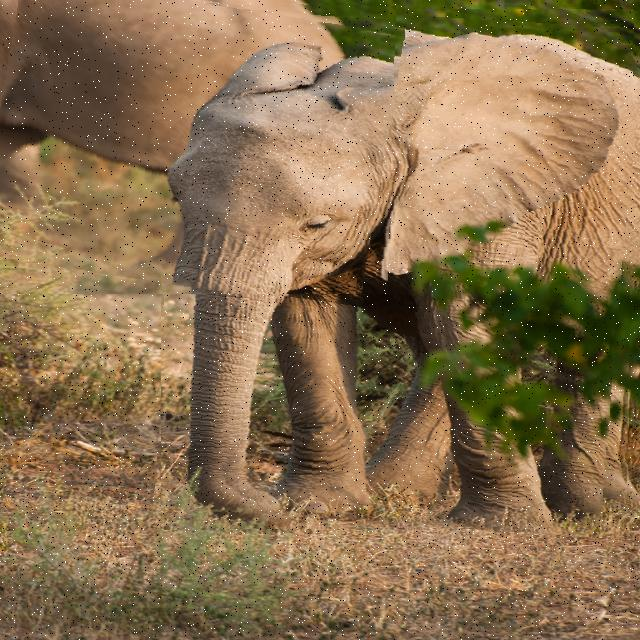elephant: (161, 9, 634, 530), (0, 0, 396, 294)
